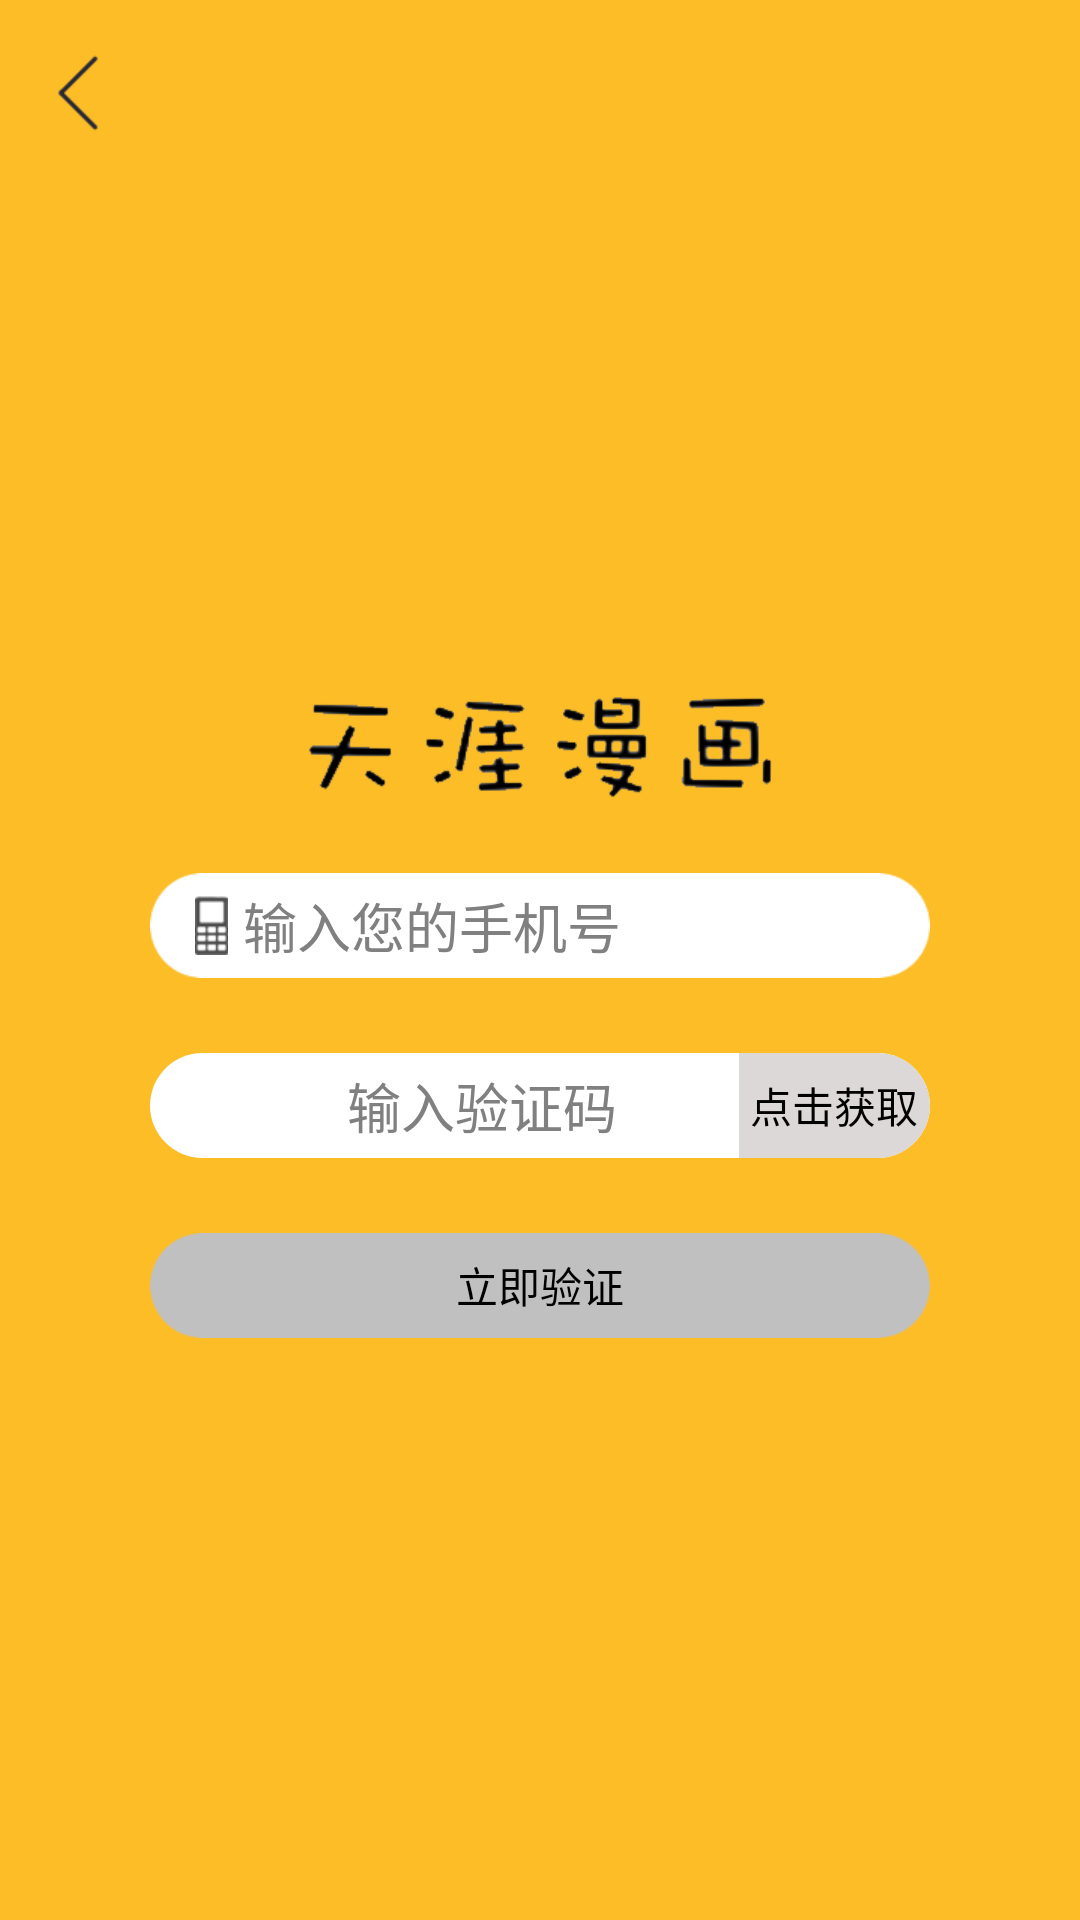

Screen size 1080w x 1920h. Icon name, then its box in pixels as (x1=x1, y1=y1, x2=x2, y2=y2):
back: (x1=58, y1=56, x2=98, y2=130)
